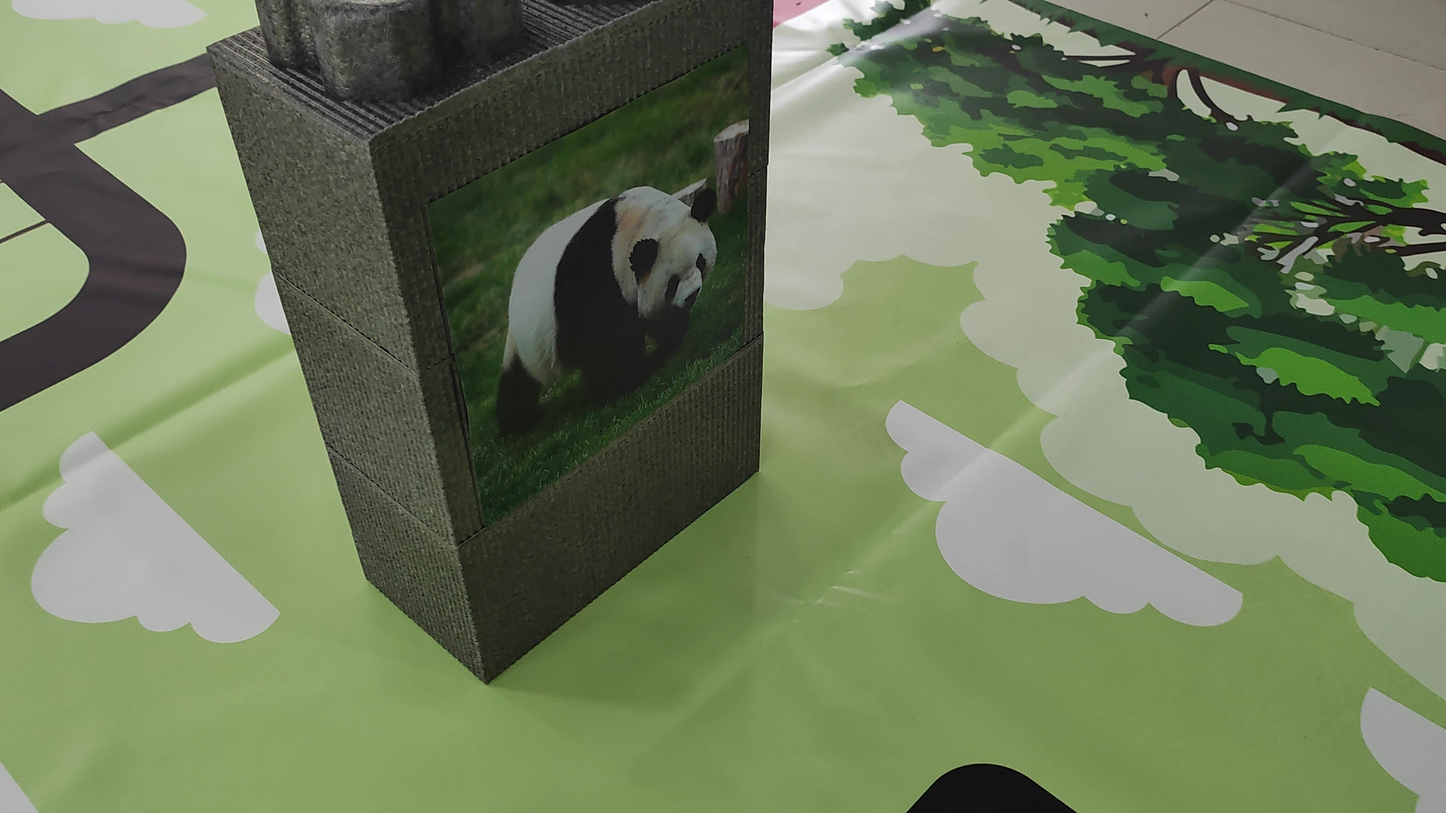panda: (460, 140, 744, 442)
